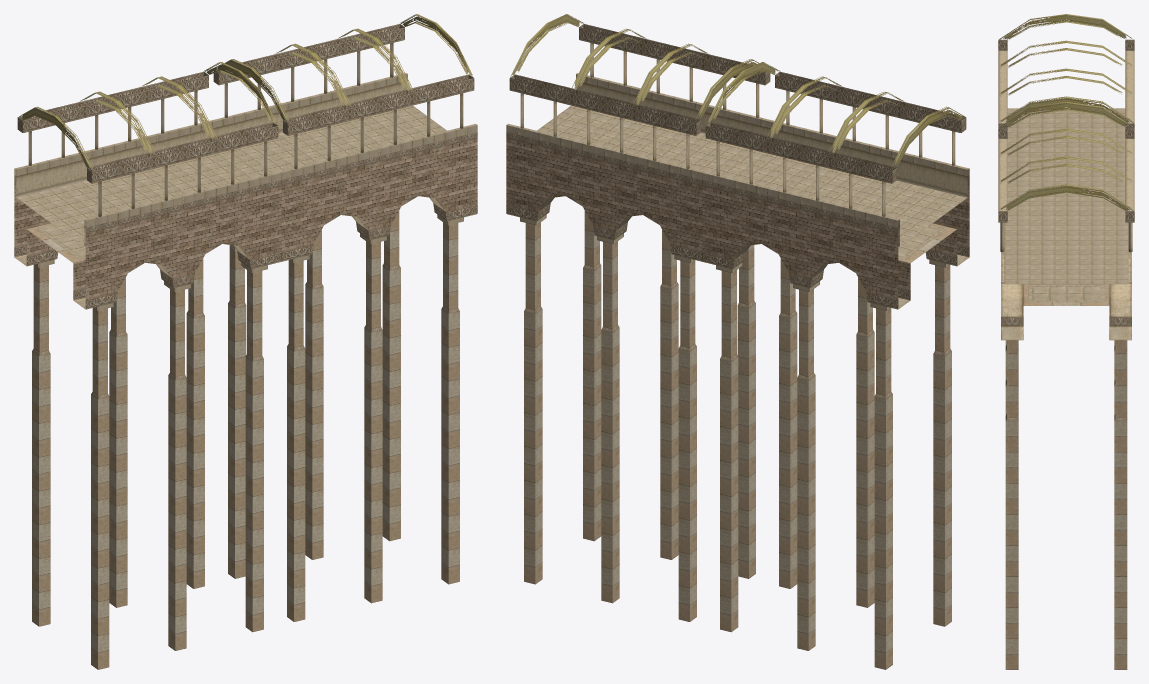
File: thm_nboo_imprv_enclosed_walkway_s02_l1.fbx
3 views of the same model, side by side, from view 1: azimuth 30°, elevation 25°; view 2: azimuth 150°, elevation 25°; view 3: azimuth 270°, elevation 25° (orthographic). The views are drawn at different scales.
Visible parts, largest first — view 1: mesh_node; view 2: mesh_node; view 3: mesh_node.
Part boxes in pixels (box(x1,y1,x2,y2)): mesh_node: box(14, 14, 477, 669); mesh_node: box(506, 14, 969, 669); mesh_node: box(998, 14, 1134, 669).
Size of the model in its own units: 16.5 by 21.4 by 5.39.
